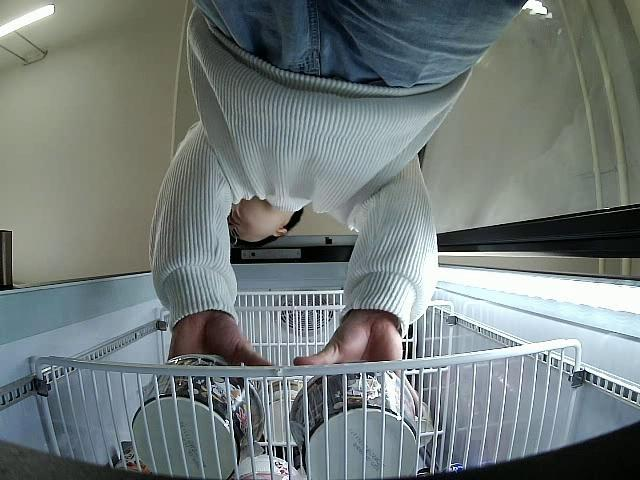07_buldak_L: (132, 355, 265, 480), (289, 363, 420, 480)
